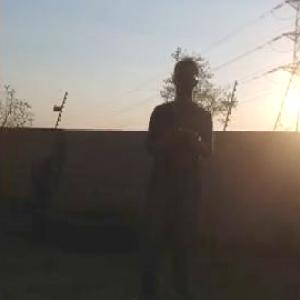follow: (119, 43, 219, 299)
